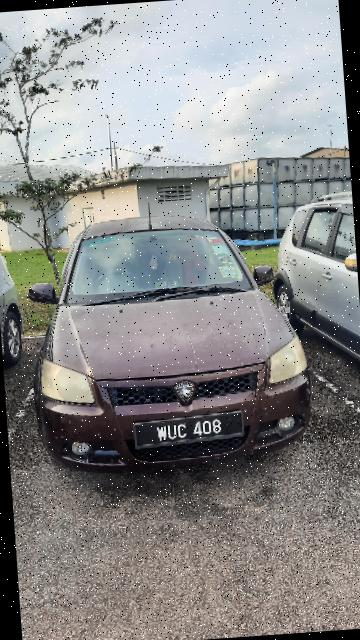License_Plate: (131, 404, 248, 458)
car: (18, 202, 317, 482), (262, 183, 360, 396)
